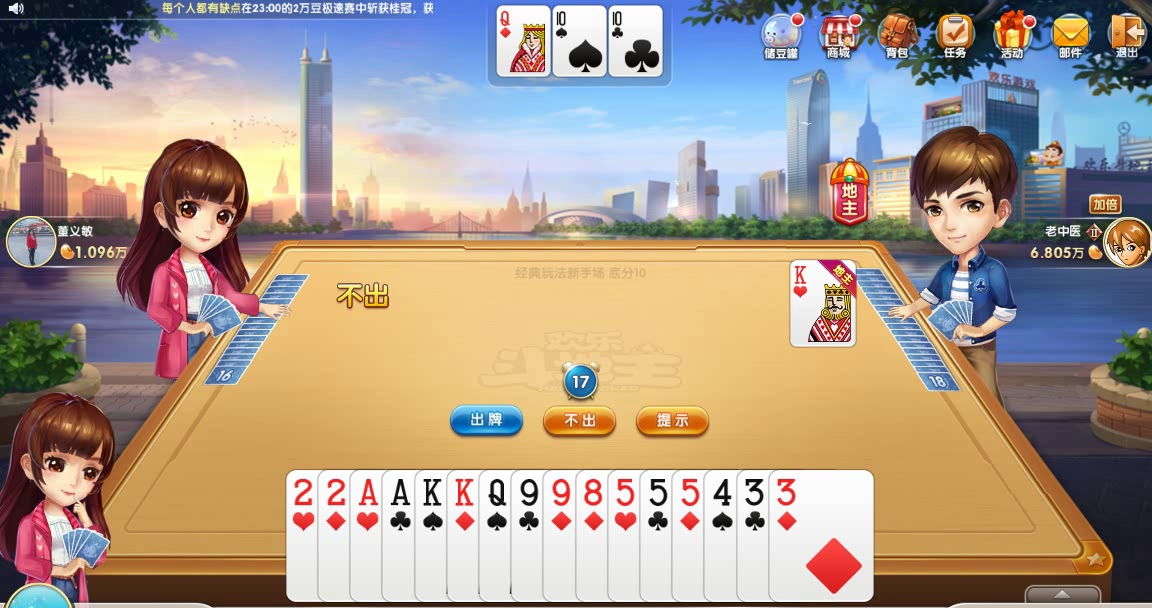10~2: (608, 4, 664, 78)
10~4: (552, 4, 608, 78)
12~1: (497, 4, 553, 78)
12~4: (478, 468, 584, 601)
13~1: (446, 468, 552, 601)
13~3: (789, 257, 858, 346)
13~4: (414, 468, 520, 601)
14~2: (381, 468, 487, 601)
14~3: (349, 468, 455, 601)
15~1: (316, 469, 422, 602)
15~3: (285, 469, 391, 602)
3~1: (768, 470, 874, 603)
3~2: (736, 470, 842, 603)
4~4: (702, 469, 808, 602)
5~1: (670, 469, 776, 602)
5~2: (639, 469, 745, 602)
5~3: (606, 469, 712, 602)
8~1: (575, 469, 681, 602)
9~1: (542, 469, 648, 602)
9~2: (510, 469, 616, 602)
